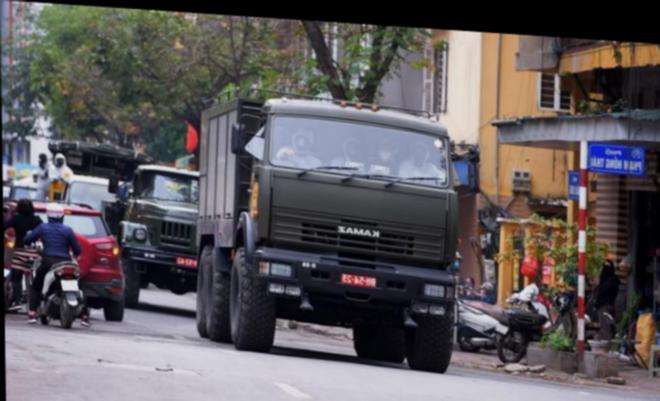License_Plate: (341, 267, 381, 295), (174, 253, 202, 269), (61, 277, 79, 293)
